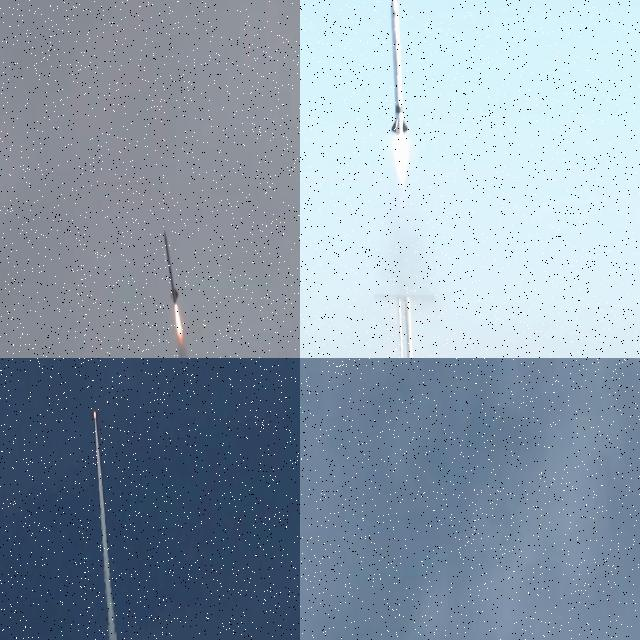Rocket: (389, 0, 408, 134), (164, 229, 179, 305), (92, 406, 97, 416)
